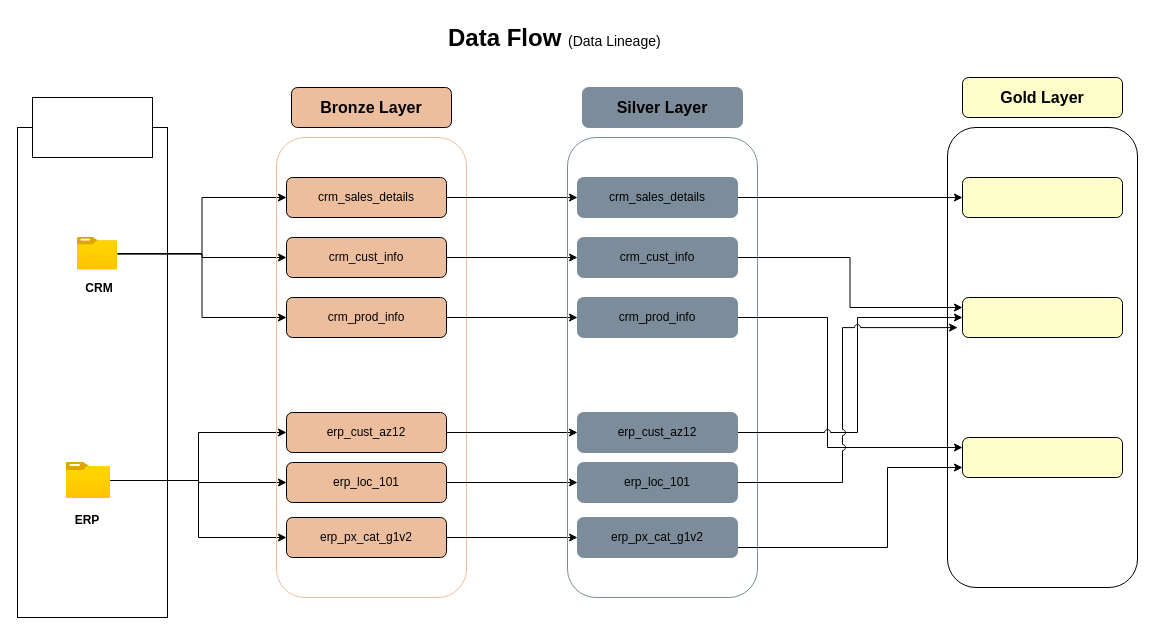
Some shapes in this 1155 by 635 pixel diagram are drawn without their labels. The shapes that lost their labels are listed below. From the top down, each one's centre as x and y in pixels, then its label:
point 92,127: Sources
point 1042,197: fact_sales
point 1042,317: dim_customers
point 1042,457: dim_products
